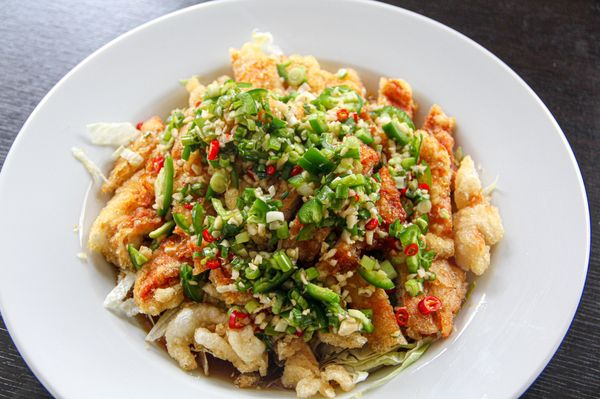sushi: (11, 1, 591, 394)
